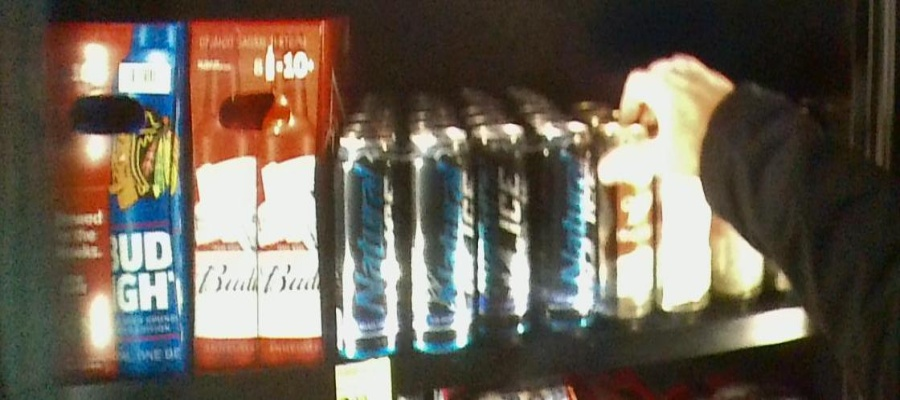bottle: (40, 19, 190, 372), (191, 19, 327, 371), (333, 135, 476, 361), (475, 135, 599, 346), (604, 197, 713, 315), (715, 240, 757, 305)
